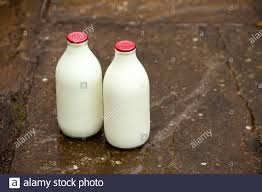milk: (98, 41, 151, 144), (52, 33, 103, 139)
